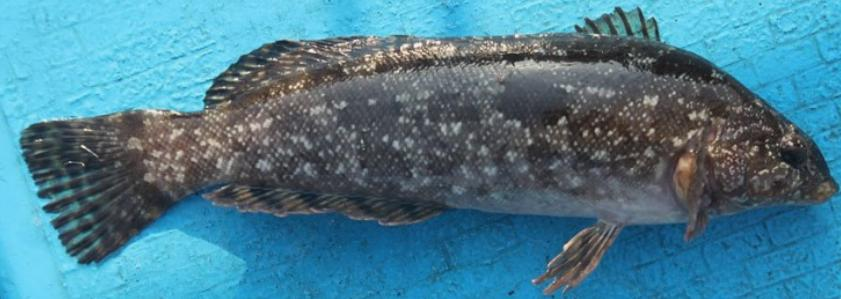fish: (21, 8, 837, 293)
